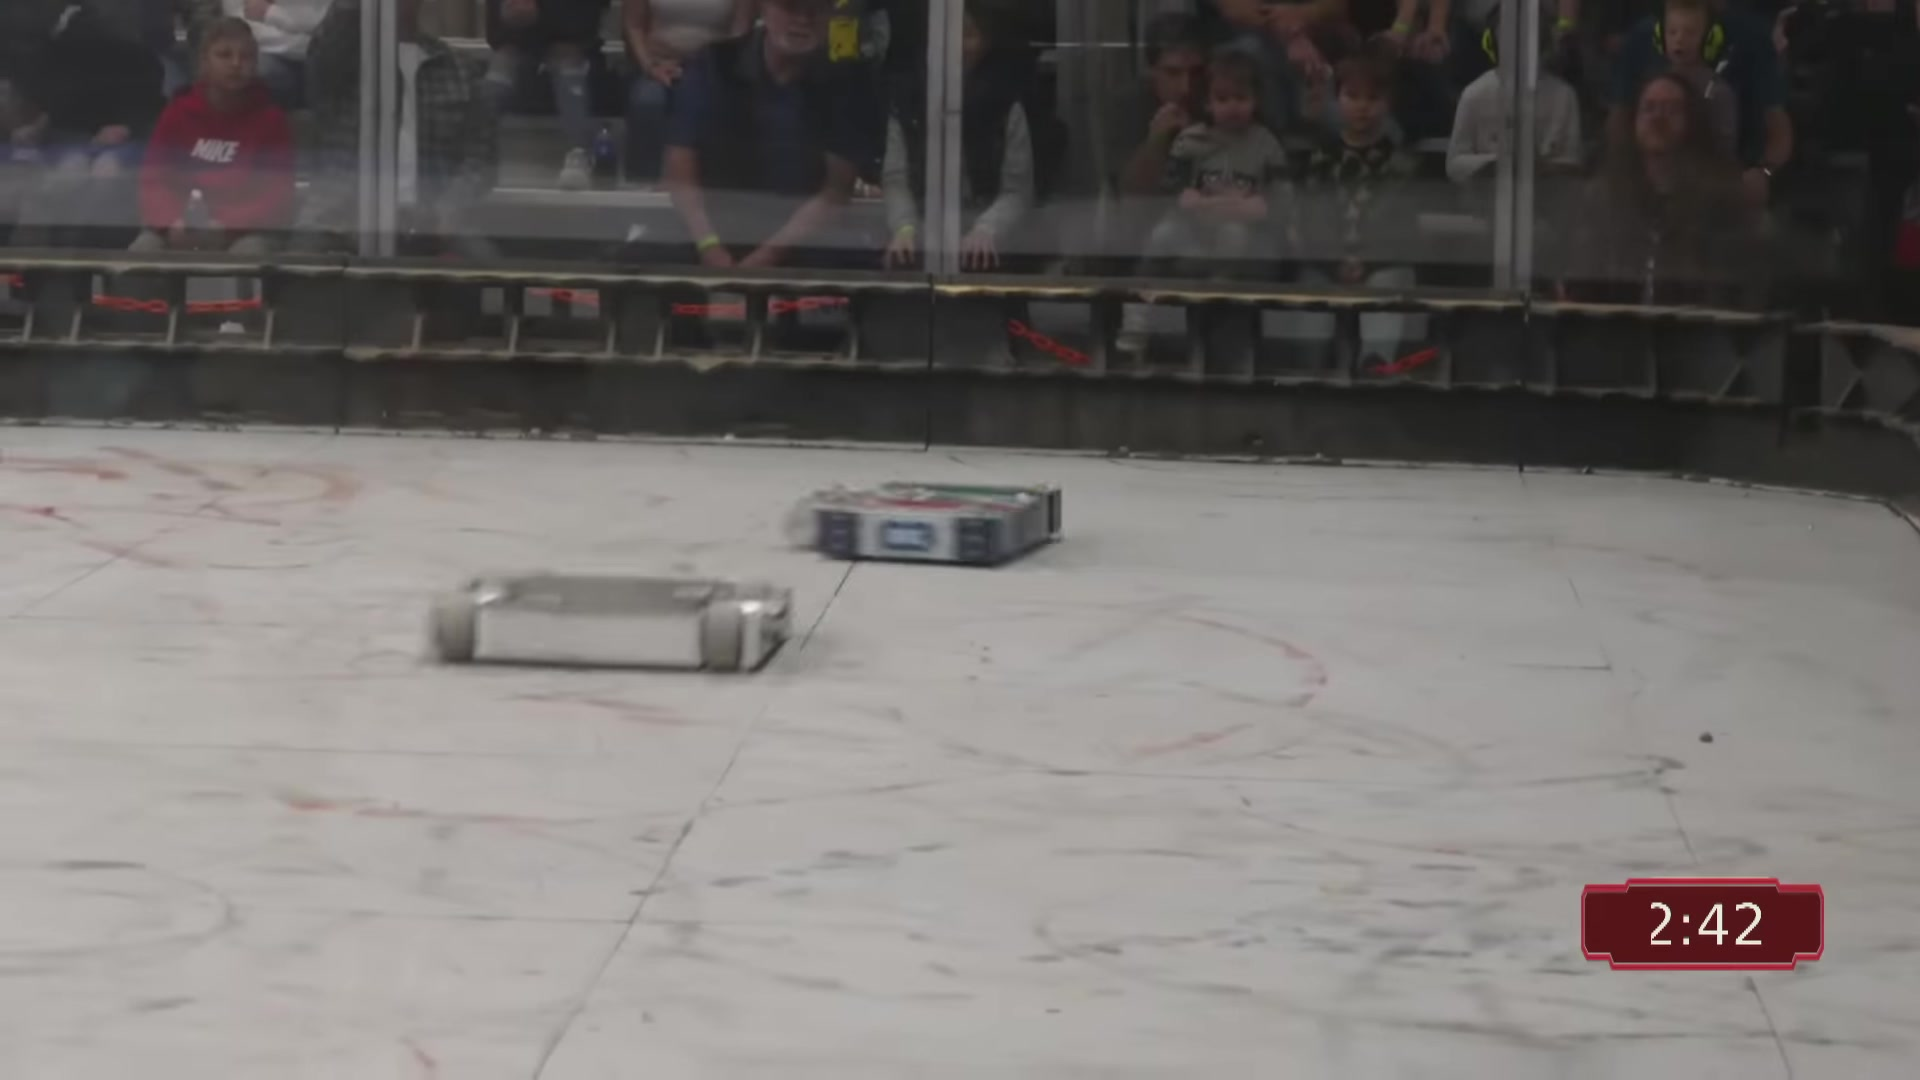combatbot: (430, 570, 796, 674), (793, 477, 1063, 570)
